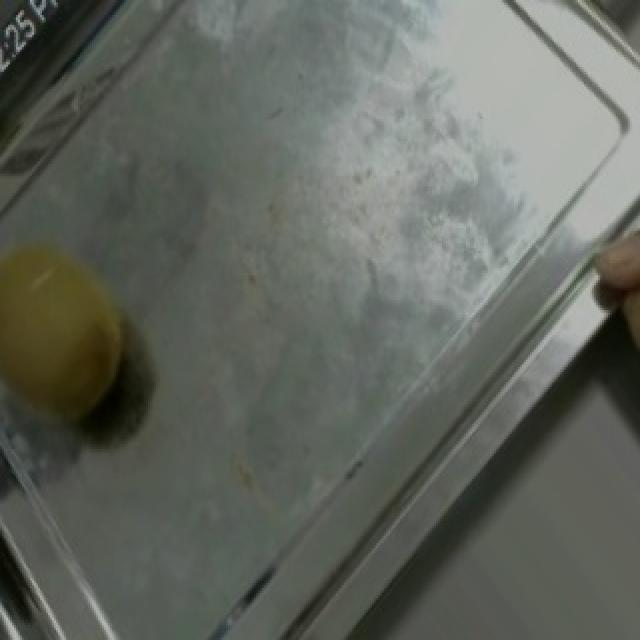Fruit: (0, 201, 172, 469)
